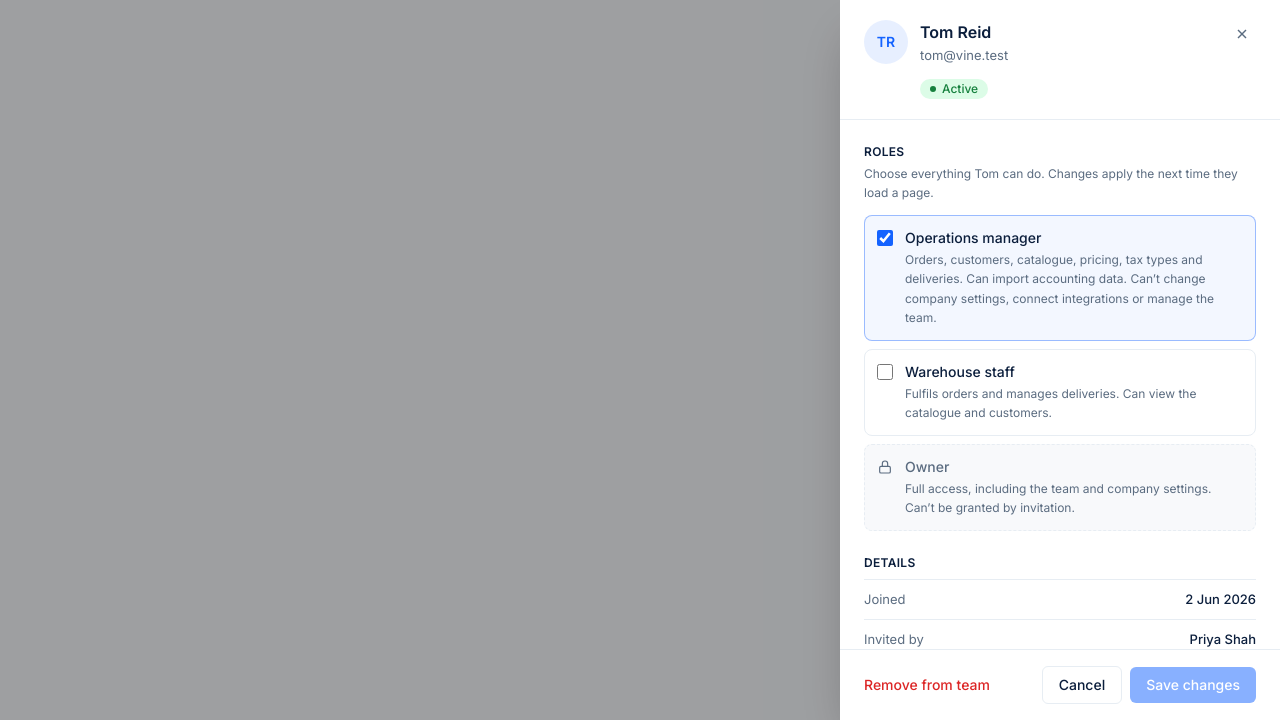
Test: TeamPersonDrawer — a team member › backs out of a removal without doing anything
Click the button "Remove from team" at (927, 685), box [864,675,990,695]
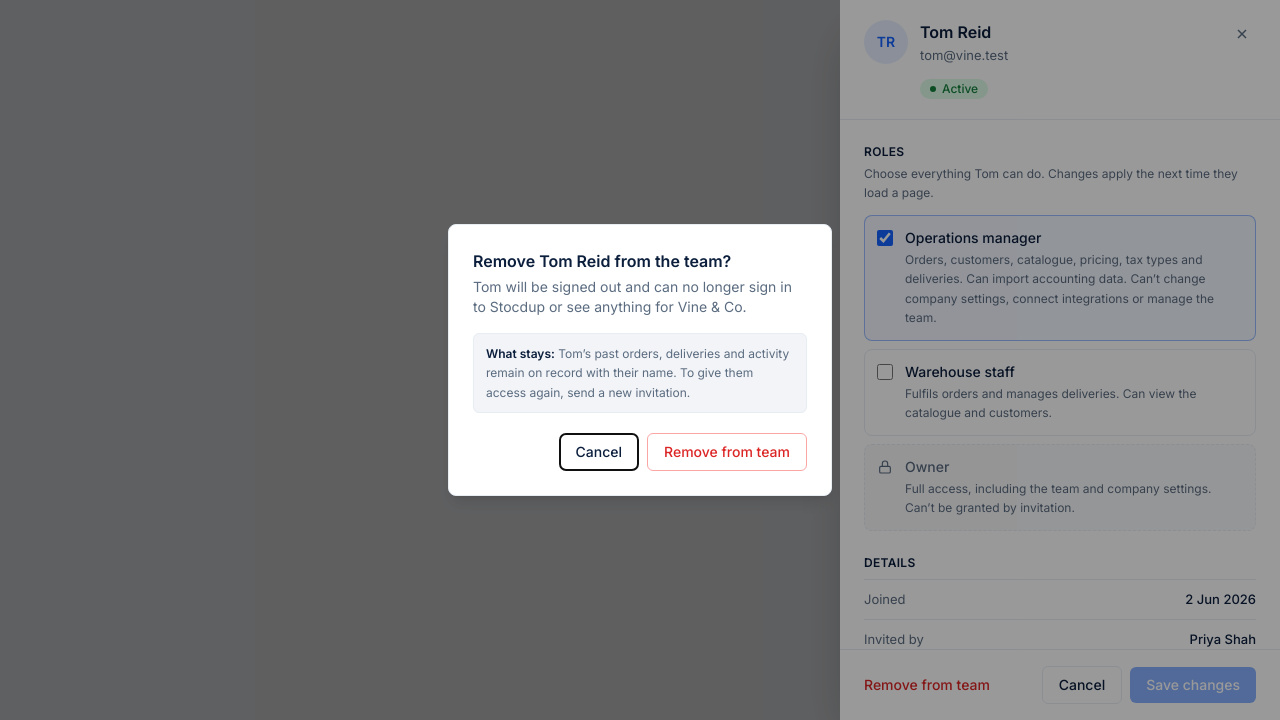
Click the button "Cancel" at (599, 452), box [559,433,639,471]
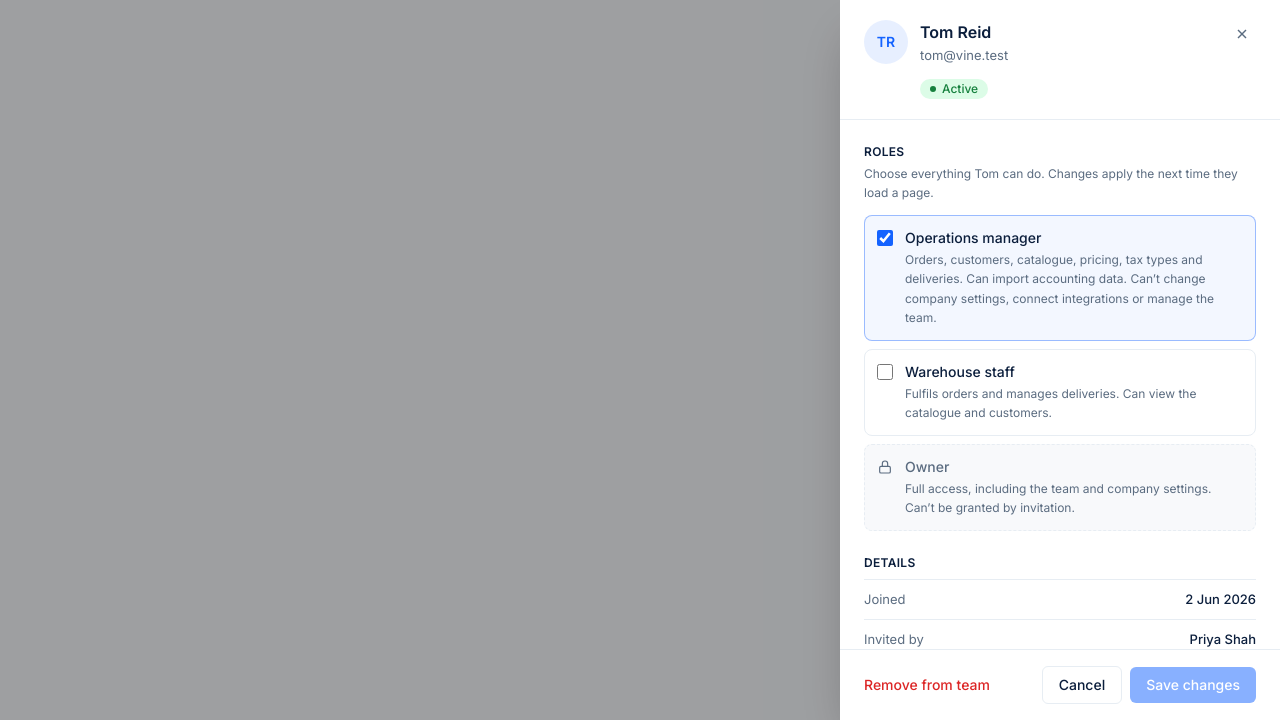
Result: the dialog is gone
